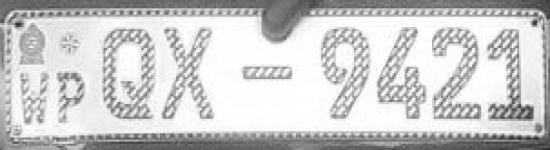-: (240, 61, 299, 89)
1: (484, 24, 540, 124)
2: (430, 26, 484, 125)
4: (374, 23, 430, 124)
9: (315, 20, 374, 122)
P: (56, 64, 92, 128)
Q: (96, 20, 158, 125)
W: (18, 67, 54, 126)
X: (158, 20, 221, 126)
